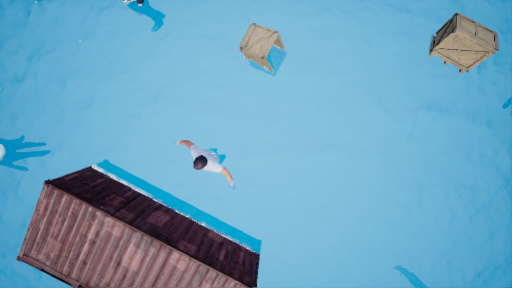person: (178, 134, 247, 188)
